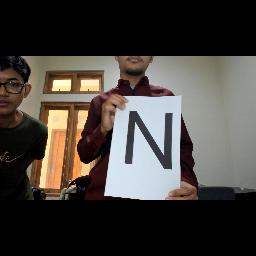n: (120, 108, 184, 172)
